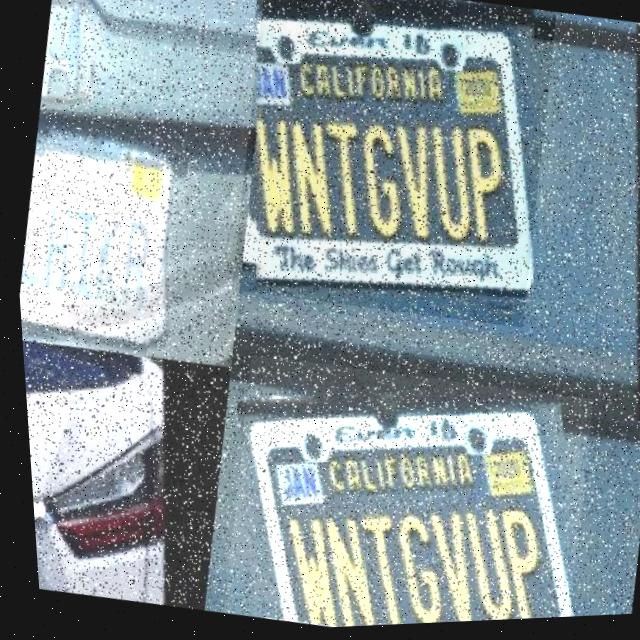LicensePlate: (211, 0, 572, 342), (200, 344, 598, 634), (7, 119, 194, 363)
